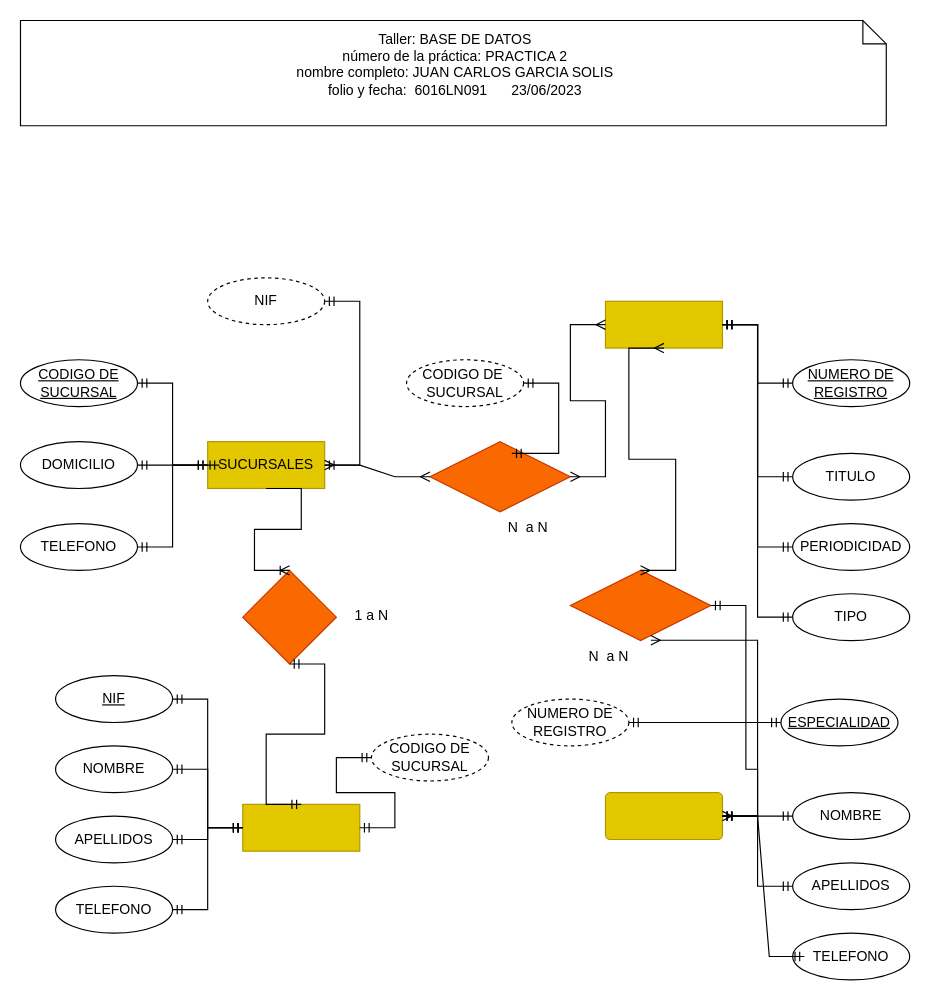
The diagram is 930 pixels wide and 1000 high, and some of its shapes have lost their labels. Here are the shapes that lost their labels. From the top down, the centre of each, then its label:
At [663,324]: "REVSTAS".
At [499,476]: "PUBLICA".
At [289,616]: "TIENE".
At [640,605]: "ESCRIBIR".
At [301,827]: "EMPLEADOS".
At [663,815]: "PERIODISTAS".
